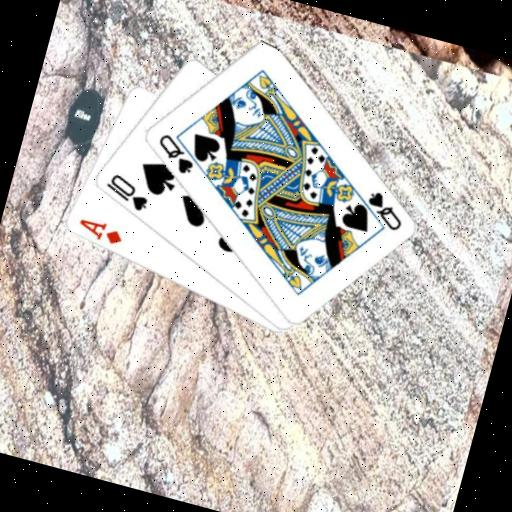10S: (98, 168, 154, 214)
AD: (72, 213, 126, 248)
QS: (148, 128, 201, 177), (358, 186, 410, 235)
